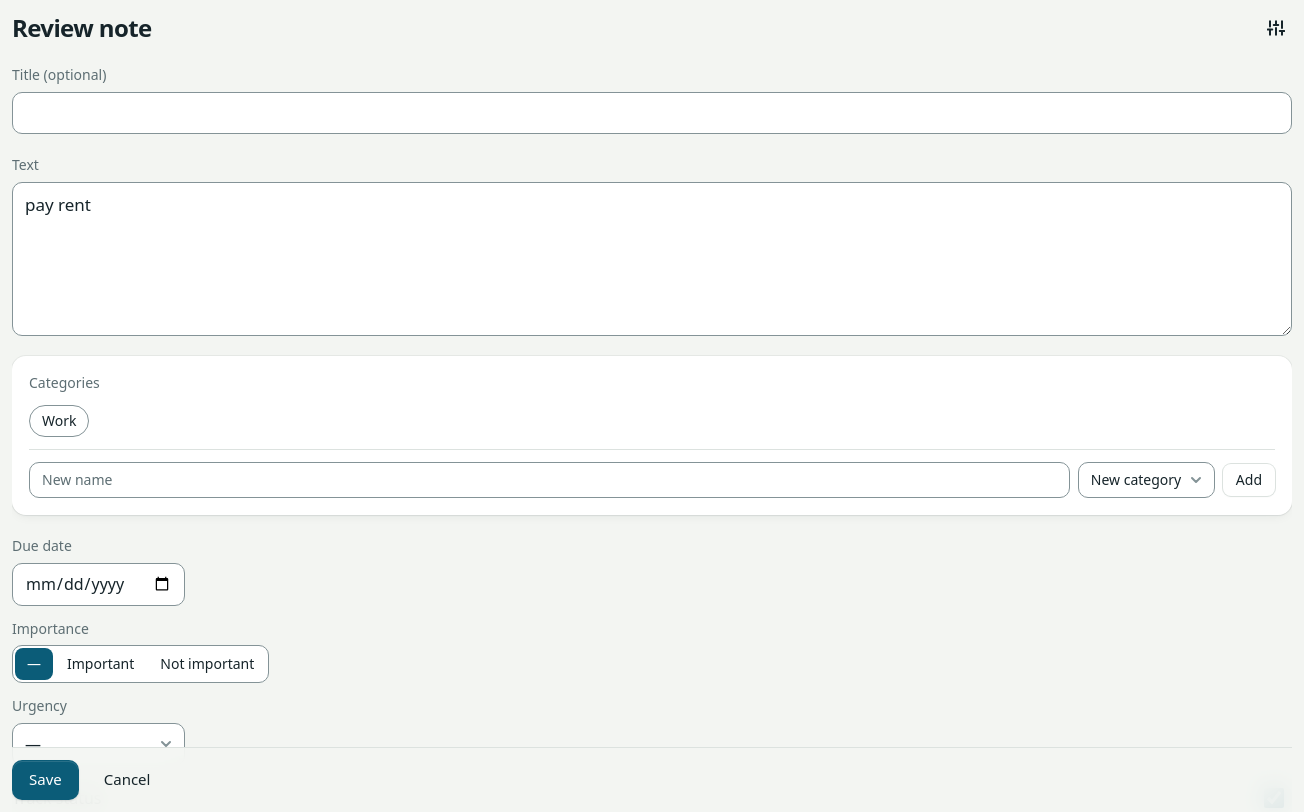
Test: NoteEditor choice display › keeps the importance hint in buttons mode
This screenshot has width=1304, height=812.
expect the element named "Importance" is shown: met, box [12,645,269,683]
Click the button "Work": (59, 421) [29,405,90,437]
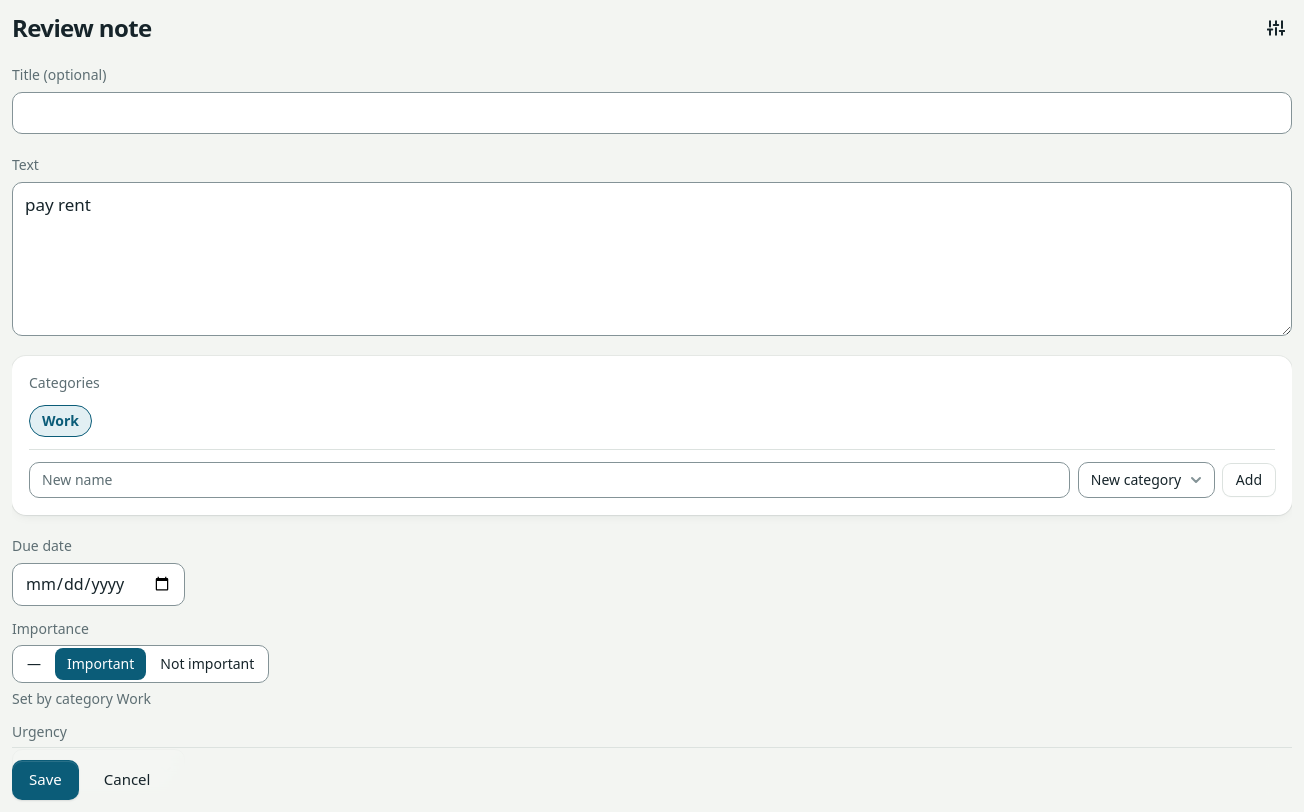
expect the text "Set by category Work" is shown: met, box [12,689,151,708]
